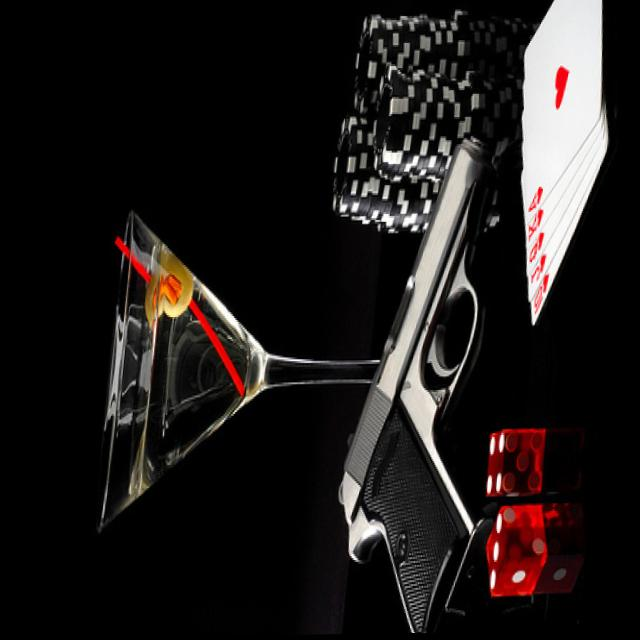handgun: (336, 138, 535, 628)
